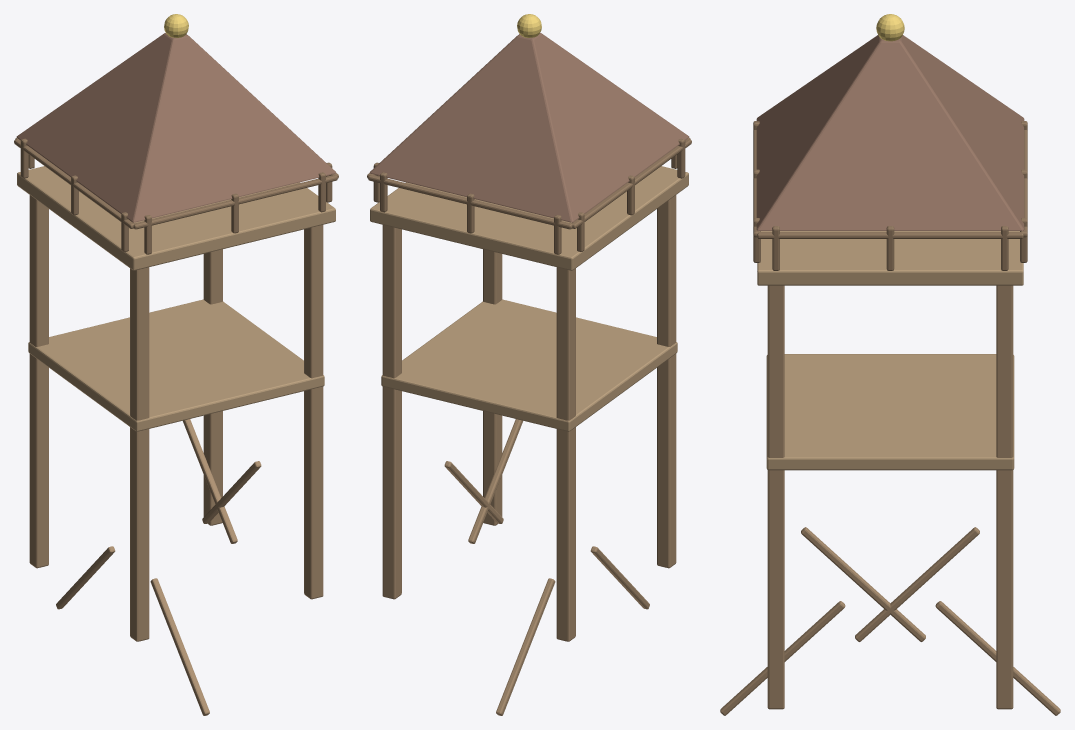
Rendered from watchtower.glb.
3 views of the same model, side by side, from view 1: azimuth 30°, elevation 25°; view 2: azimuth 150°, elevation 25°; view 3: azimuth 270°, elevation 25° (orthographic). The views are drawn at different scales.
Parts seen in each view (by area): view 1: Watchtower; view 2: Watchtower; view 3: Watchtower.
Boxes of the visible parts, box(x1,y1,x2,y2) form: Watchtower: box(14, 14, 338, 715); Watchtower: box(367, 14, 691, 715); Watchtower: box(720, 14, 1060, 715).
Bounding box in the file's own units: 2.88 × 8.39 × 3.58.
